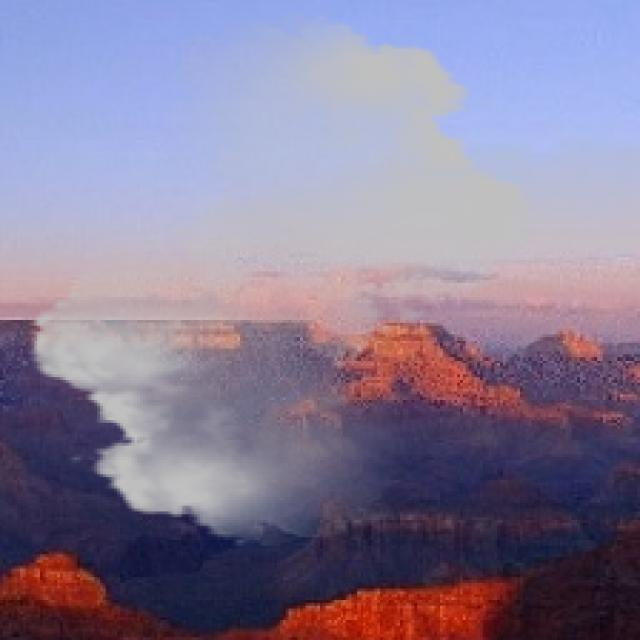Smoke: (14, 14, 549, 546)
